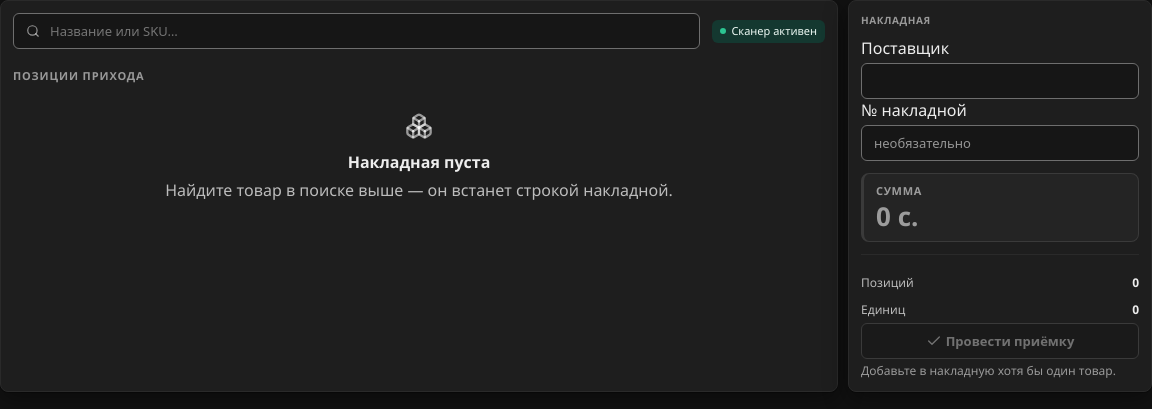
it: ReceivingWorkspace › товары без учёта остатка (trackStock=false) в поиск не попадают
This screenshot has width=1152, height=409.
Type "врем" into the search field named "Добавить товар" at (368, 31), box [48, 21, 687, 41]
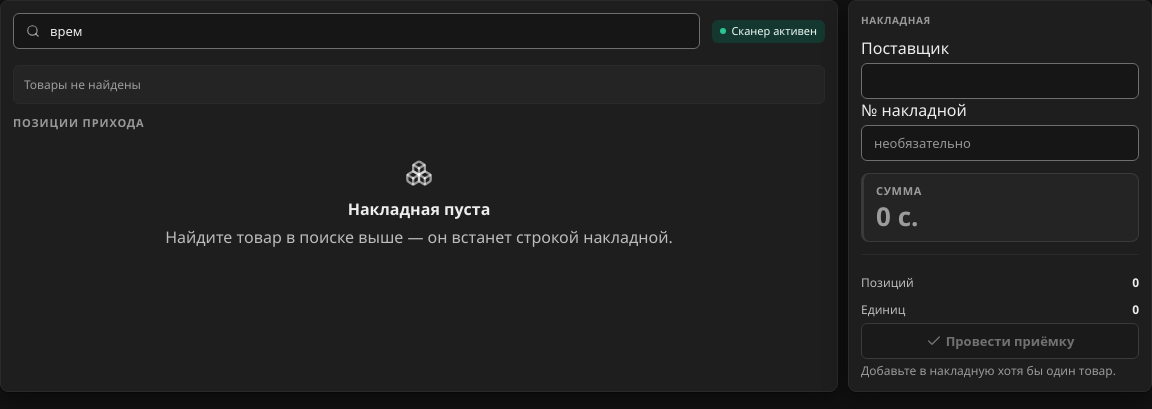
Result: the list item "Товары не найдены" is shown at [24, 76, 141, 93]
